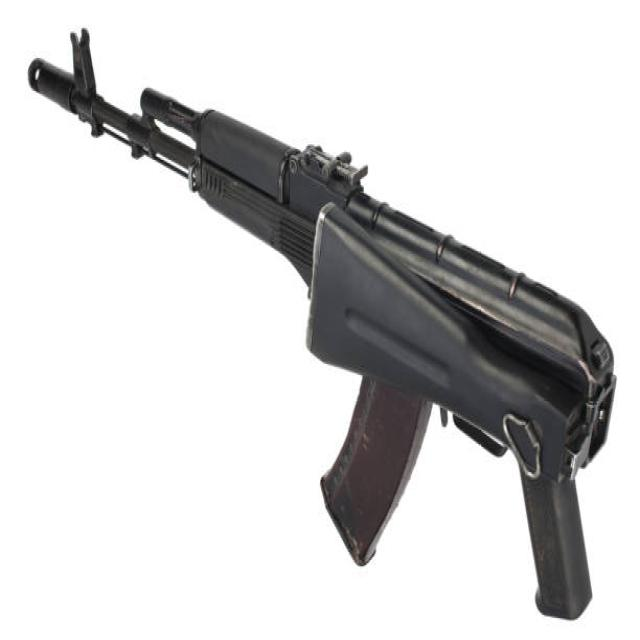rifle: (18, 26, 623, 624)
